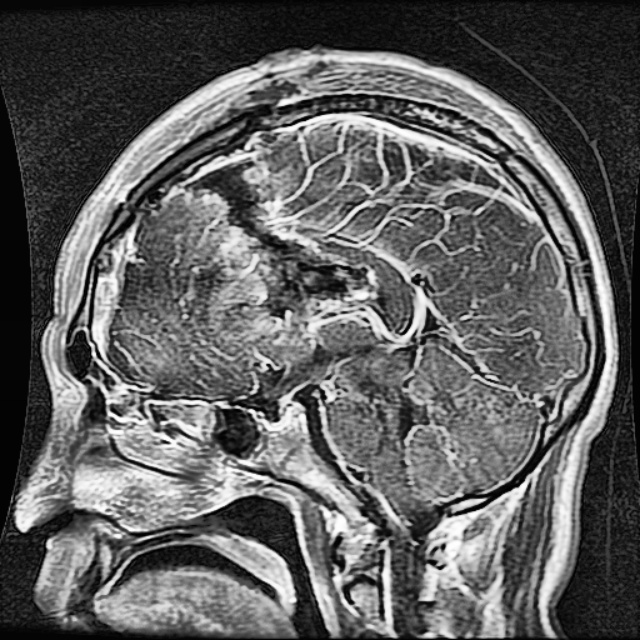Meningioma: (187, 158, 385, 317)
